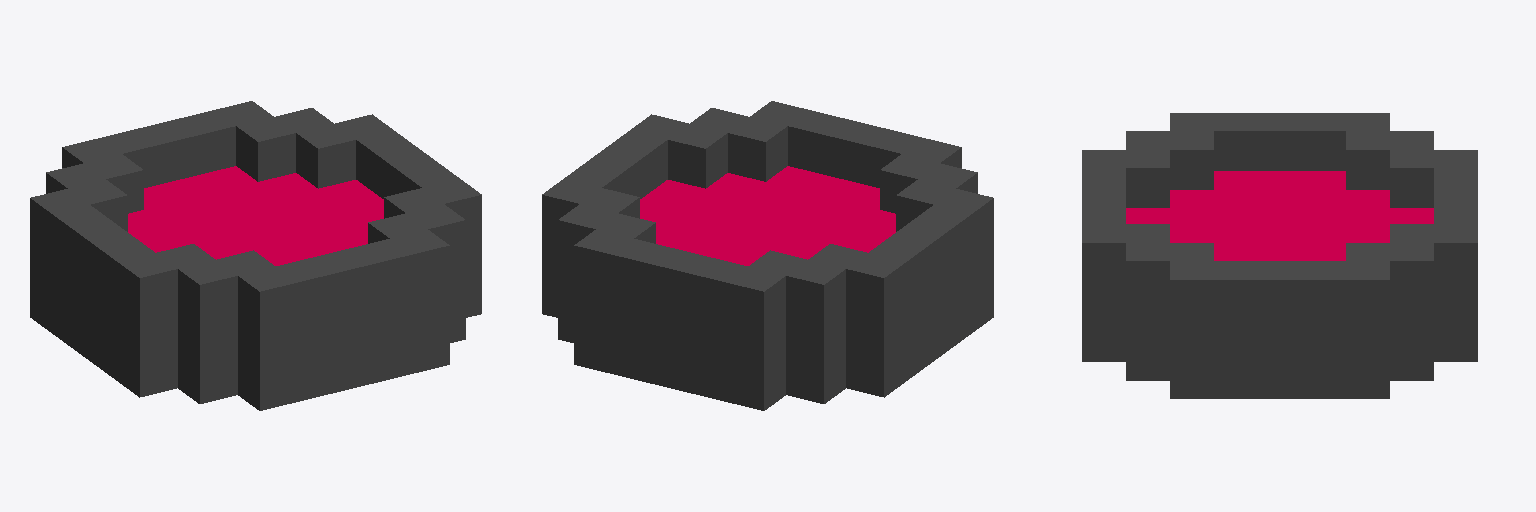
3 renders of one model, left to right at view 1: azimuth 30°, elevation 25°; view 2: azimuth 150°, elevation 25°; view 3: azimuth 270°, elevation 25°, orthographic.
Parts seen in each view (by area): view 1: Matrix; view 2: Matrix; view 3: Matrix.
Boxes of the visible parts, box(x1,y1,x2,y2) form: Matrix: box(30, 101, 481, 410); Matrix: box(542, 101, 993, 410); Matrix: box(1082, 113, 1477, 398).
Size of the model in its own units: 9 by 3 by 9.
1 materials, 1 textured.